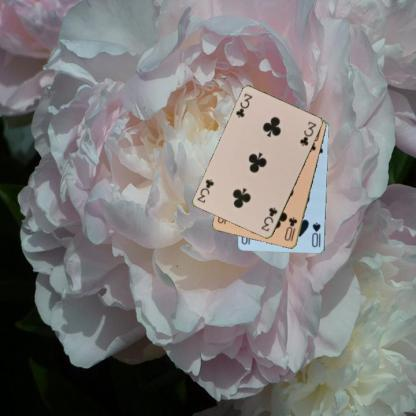10c: (282, 214, 299, 243)
10s: (309, 220, 322, 249)
3c: (233, 90, 254, 119), (258, 204, 278, 233)
